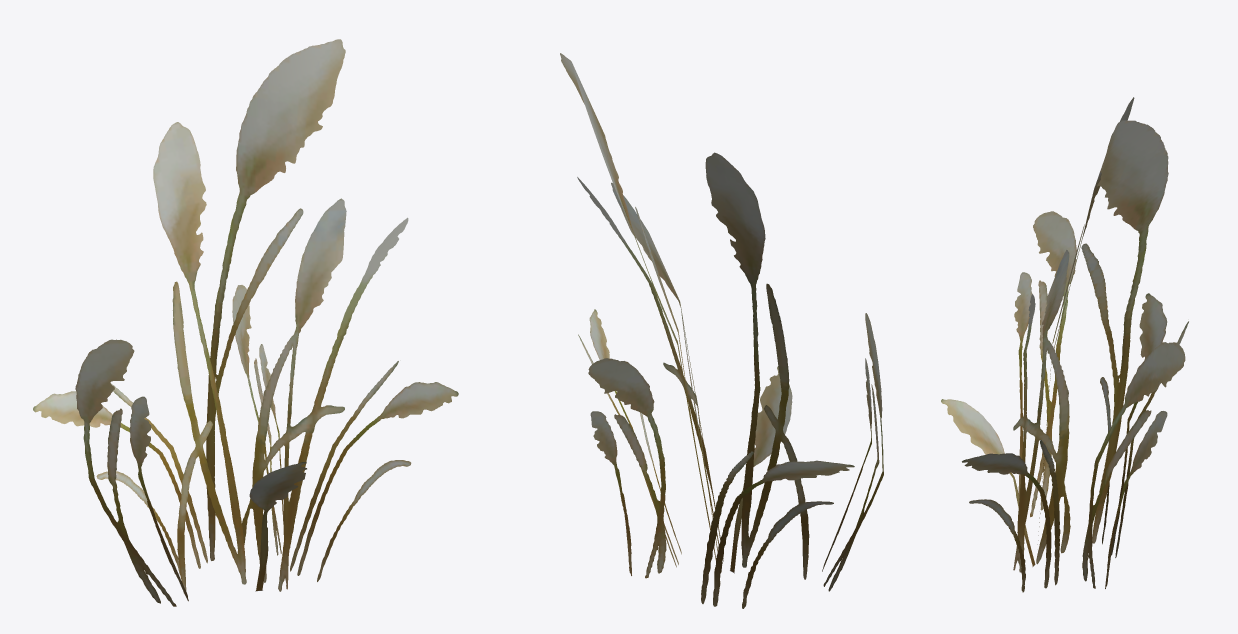
File: luwei_a.FBX
3 renders of one model, left to right at view 1: azimuth 30°, elevation 25°; view 2: azimuth 150°, elevation 25°; view 3: azimuth 270°, elevation 25°, orthographic. The views are drawn at different scales.
Visible parts, largest first — view 1: luwei_a; view 2: luwei_a; view 3: luwei_a.
Part boxes in pixels (x1,y1,x2,y2): luwei_a: (33, 39, 458, 606); luwei_a: (560, 53, 883, 608); luwei_a: (941, 97, 1188, 592).
Bounding box in the file's own units: 155 × 197 × 108.
